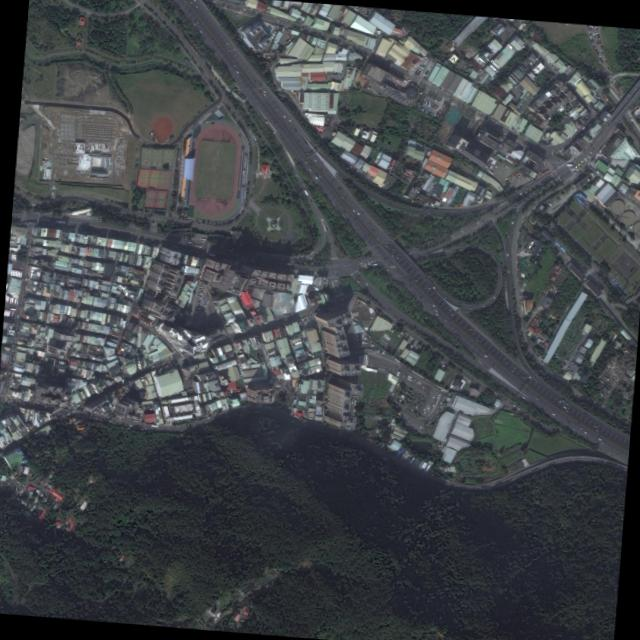storage-tank: (620, 208, 635, 226), (608, 197, 624, 213), (632, 220, 640, 235)
